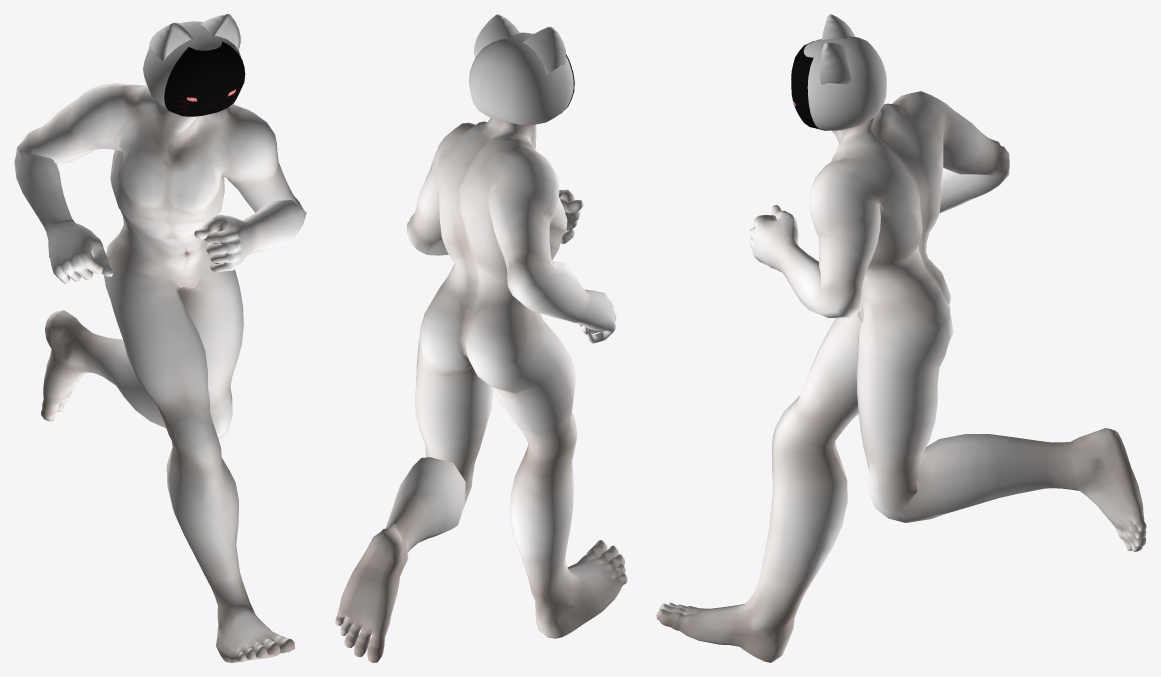
The picture shows the model from 3 angles, left to right: view 1: azimuth 30°, elevation 25°; view 2: azimuth 150°, elevation 25°; view 3: azimuth 270°, elevation 25°; orthographic projection. The views are drawn at different scales.
Parts seen in each view (by area): view 1: Muscle_Body, ______?001, Cat_Head; view 2: Muscle_Body, Cat_Head; view 3: Muscle_Body, Cat_Head, ______?001.
Boxes of the visible parts, bbox=[...] form: Muscle_Body: bbox=[14, 83, 306, 662]; ______?001: bbox=[164, 41, 245, 116]; Cat_Head: bbox=[143, 14, 241, 109]; Muscle_Body: bbox=[335, 118, 627, 662]; Cat_Head: bbox=[468, 14, 573, 125]; Muscle_Body: bbox=[656, 91, 1146, 662]; Cat_Head: bbox=[803, 14, 886, 130]; ______?001: bbox=[791, 41, 826, 130].
Size of the model in its own units: 10.39 by 27.82 by 19.56.
